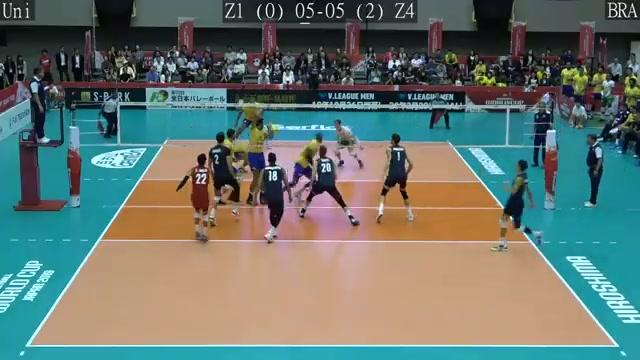ball: (267, 122, 279, 136)
